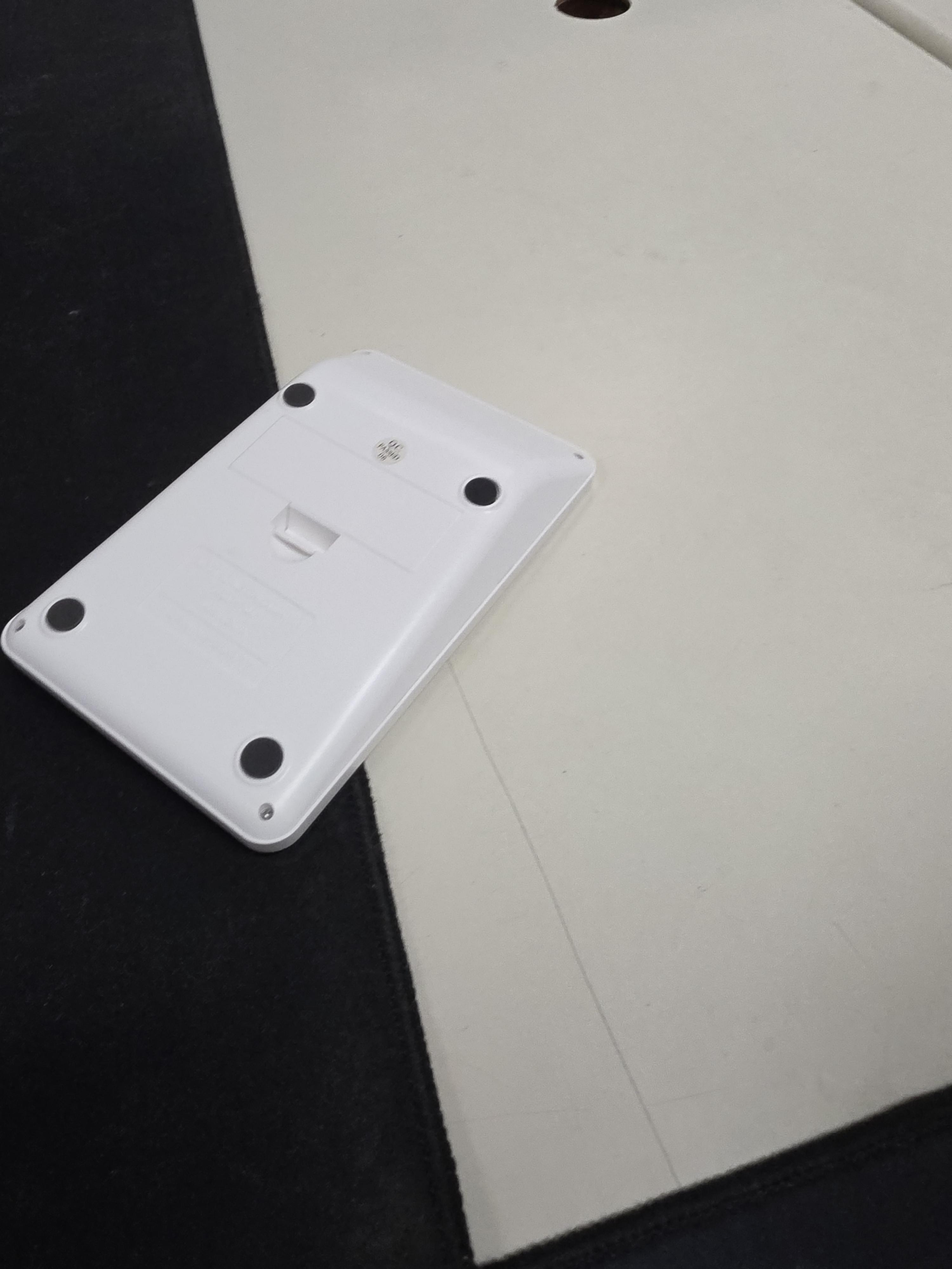calculator: (0, 347, 598, 853)
